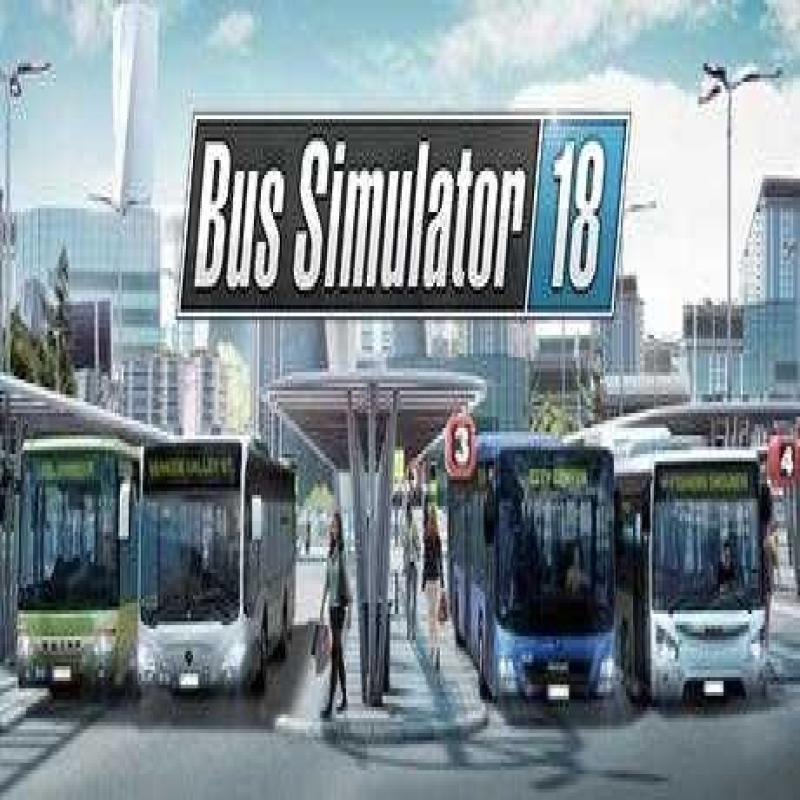bus: (476, 406, 626, 731), (143, 399, 282, 724), (637, 406, 783, 711), (32, 413, 133, 727)
